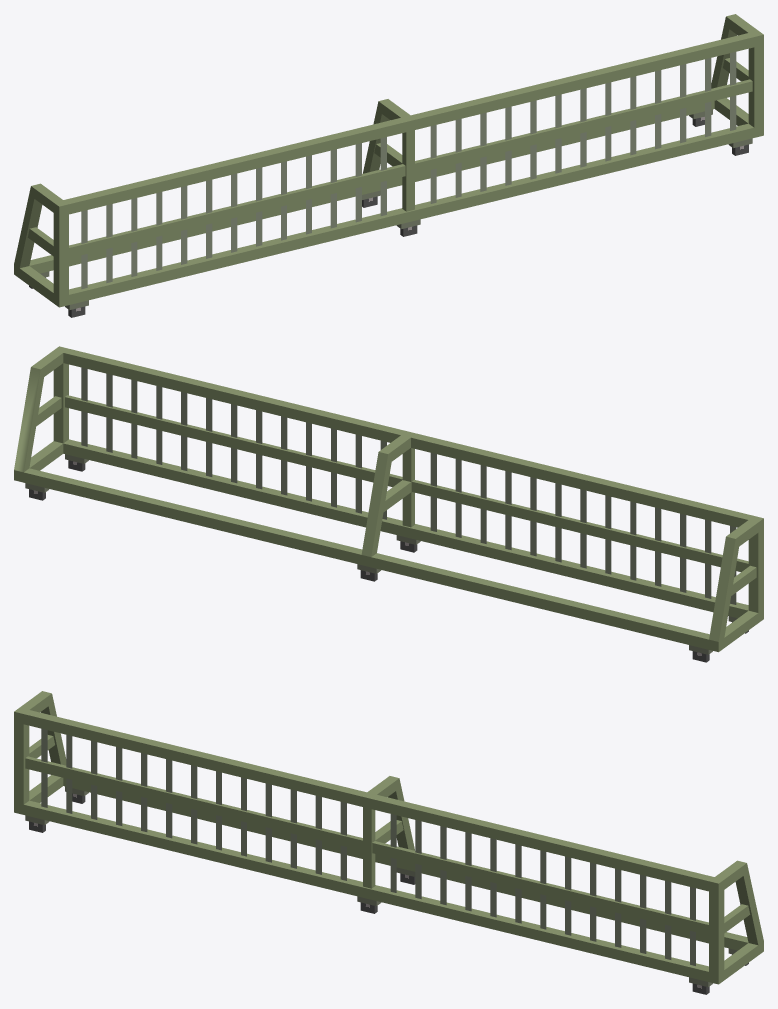
Rendered from 0546_School_Gate.glb.
The picture shows the model from 3 angles, top to bottom: view 1: azimuth 30°, elevation 25°; view 2: azimuth 150°, elevation 25°; view 3: azimuth 330°, elevation 25°; orthographic projection.
Visible parts, largest first — view 1: part_0; view 2: part_0; view 3: part_0.
Part boxes in pixels (x1,y1,x2,y2): part_0: (14, 14, 763, 317); part_0: (14, 346, 763, 662); part_0: (14, 691, 763, 994).
Size of the model in its own units: 10.8 by 1.69 by 1.2.
Materials: 1 (1 with a texture image).
